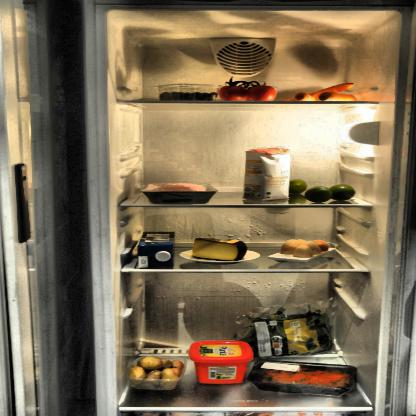beef: (259, 364, 353, 392)
blueberries: (158, 88, 221, 103)
butter: (187, 340, 250, 390)
carrot: (282, 81, 366, 103)
cheese: (192, 238, 248, 262)
eggs: (278, 236, 333, 256)
ground_beef: (147, 184, 209, 203)
lime: (290, 180, 362, 204)
milk: (136, 230, 180, 270)
potato: (127, 355, 182, 390)
spinach: (240, 309, 338, 358)
tomato: (218, 80, 278, 102)
